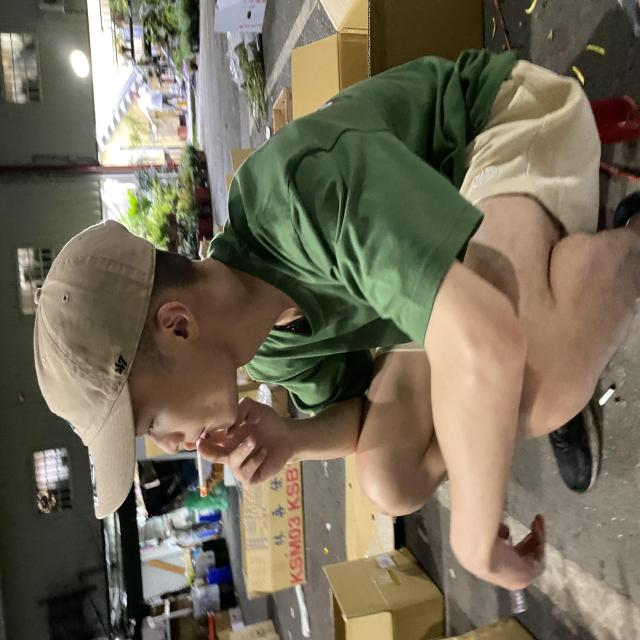cigarette: (185, 415, 216, 508)
